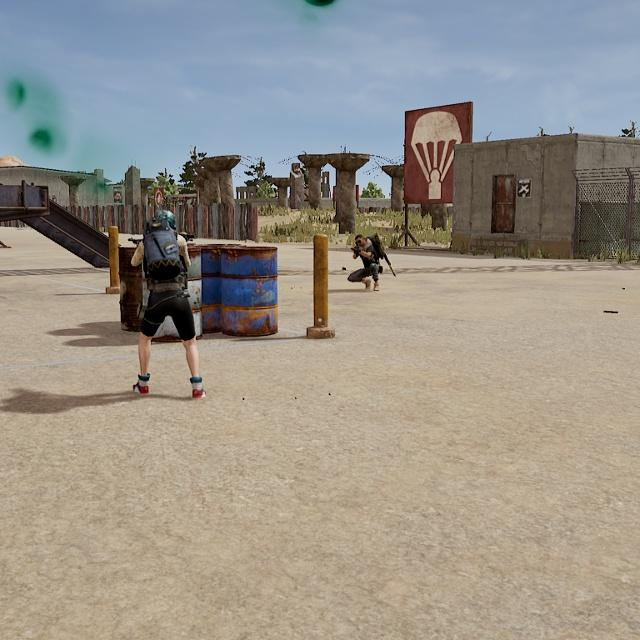head: (148, 206, 179, 238), (352, 231, 367, 249)
people: (126, 201, 212, 403), (348, 229, 386, 295)
